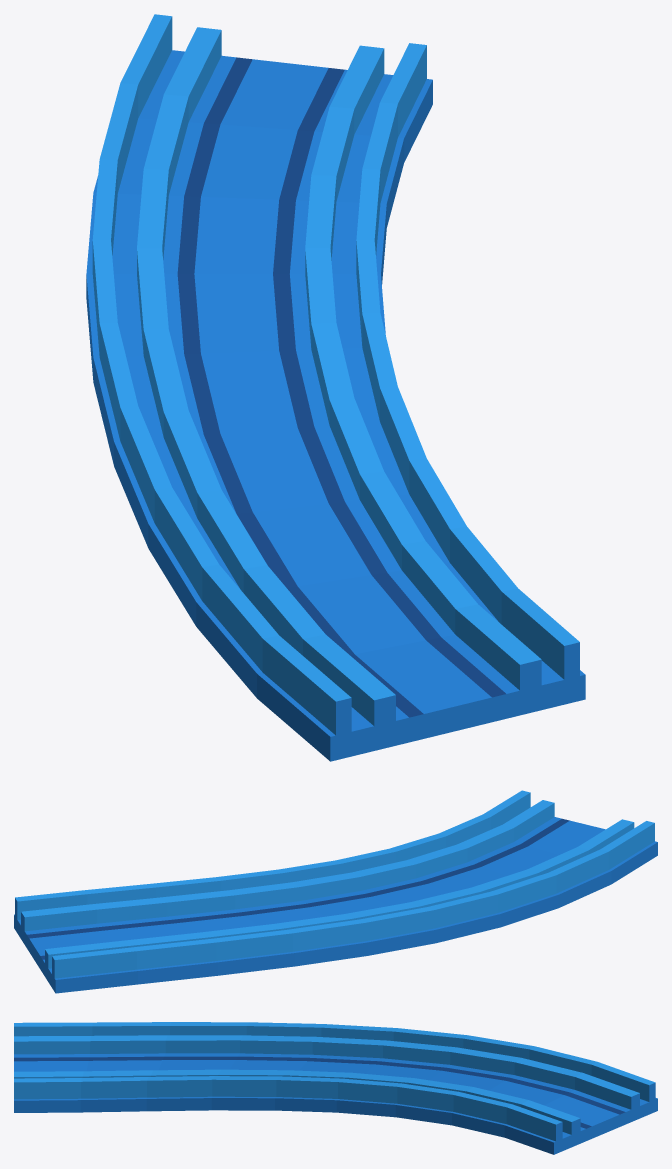
File: Track_Slope_Curve_Right_Up.fbx
The picture shows the model from 3 angles, top to bottom: view 1: azimuth 30°, elevation 25°; view 2: azimuth 150°, elevation 25°; view 3: azimuth 270°, elevation 25°; orthographic projection. The views are drawn at different scales.
Visible parts, largest first — view 1: Molded blue rail; view 2: Molded blue rail; view 3: Molded blue rail.
Part boxes in pixels (x1,y1,x2,y2): Molded blue rail: [86, 14, 585, 761]; Molded blue rail: [14, 790, 657, 993]; Molded blue rail: [14, 1022, 657, 1154].
Size of the model in its own units: 266 by 64.88 by 462.
